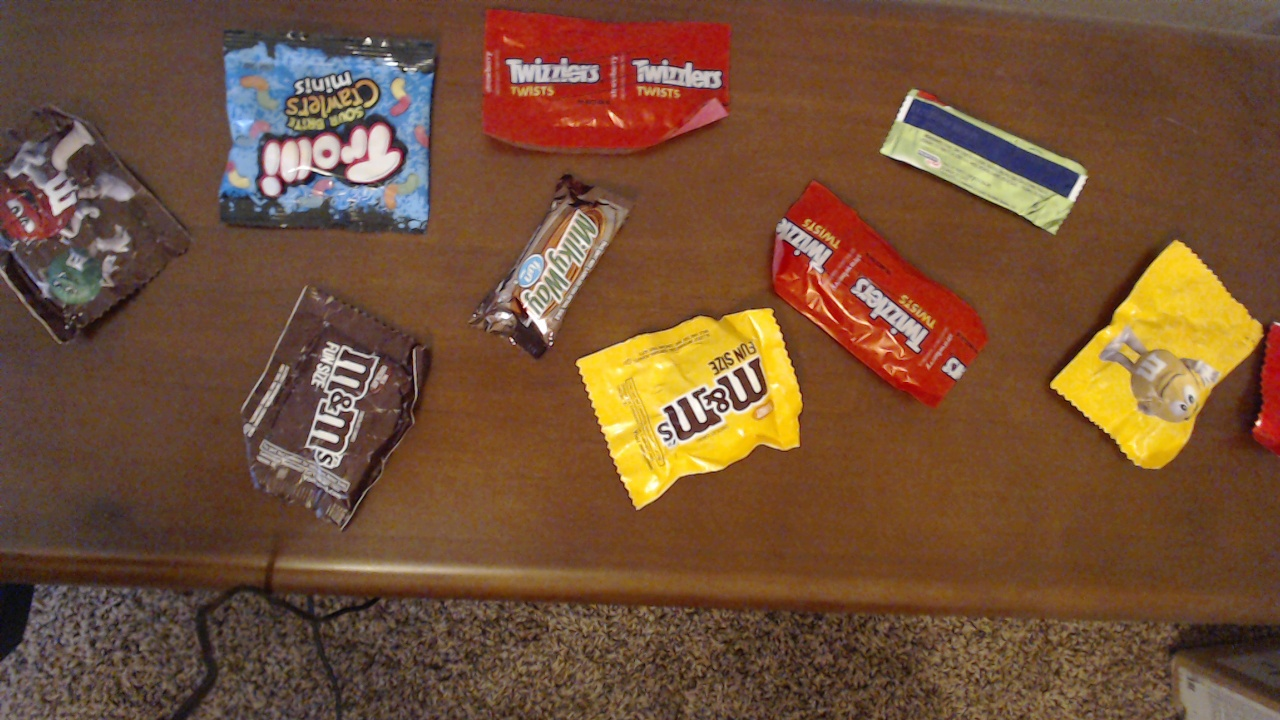MMs_peanut: (0, 106, 211, 333)
MMs_regular: (556, 301, 852, 474)
airheads: (863, 40, 1101, 237)
gummy_worms: (214, 15, 443, 237)
milky_way: (228, 265, 441, 533), (471, 157, 634, 356)
twizzlers: (719, 172, 996, 421), (1037, 233, 1275, 497), (454, 0, 775, 165)
